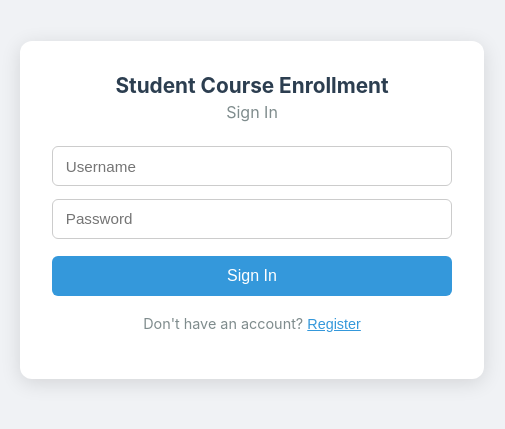
Test: Login component › shows an error message on failed login
The width and height of the screenshot is (505, 429).
Type "alice" into the field with placeholder "Username".
click(252, 166); type("alice")  # box [52,146,452,186]
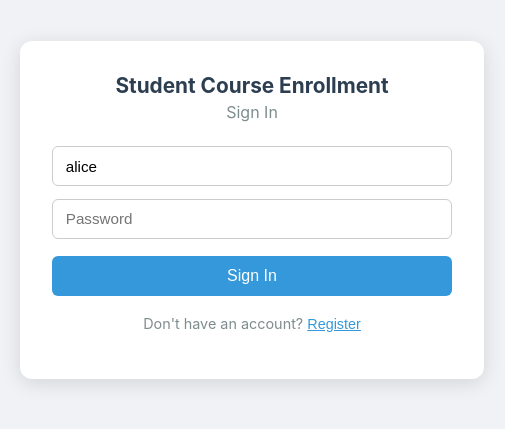
Type "wrong" into the password field with placeholder "Password".
click(252, 219); type("wrong")  # box [52,199,452,239]
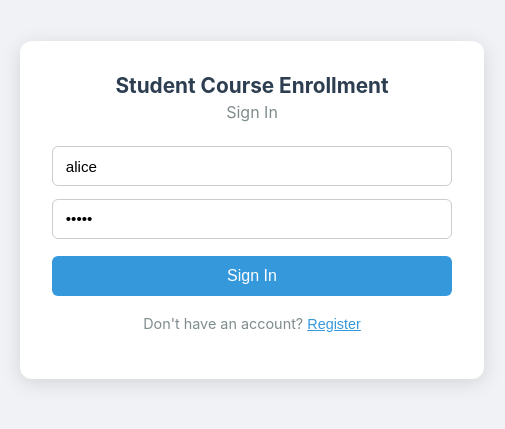
Click the button "Sign In".
click(252, 276)  # box [52,256,452,296]
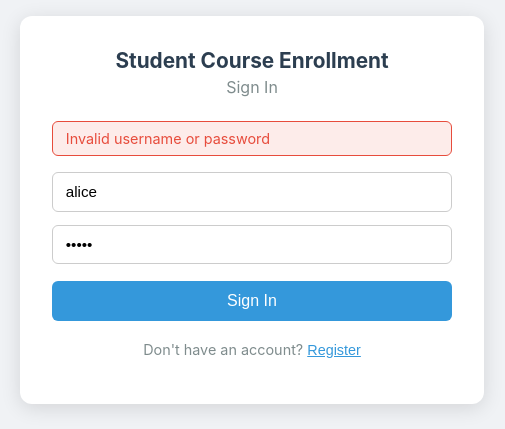
Result: the text "Invalid username or password" is shown at [52,121,452,156]
